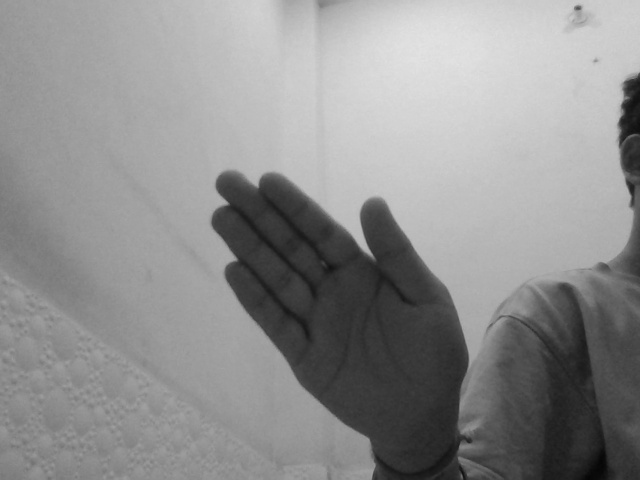Hello: (209, 167, 472, 449)
